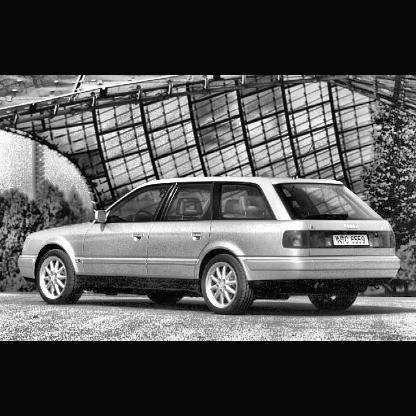Audi 100 Wagon 1994: (19, 176, 403, 316)
